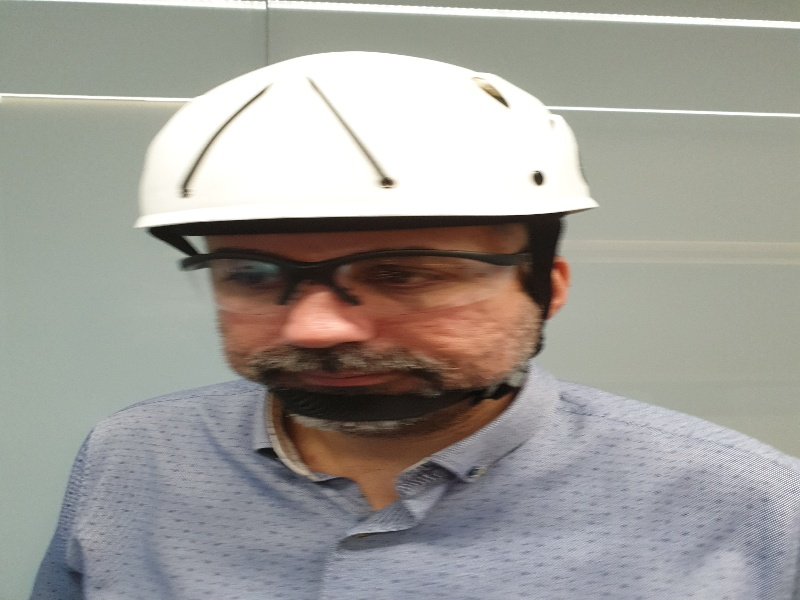Baret: (133, 48, 596, 231)
Gozluk: (177, 249, 539, 312)
